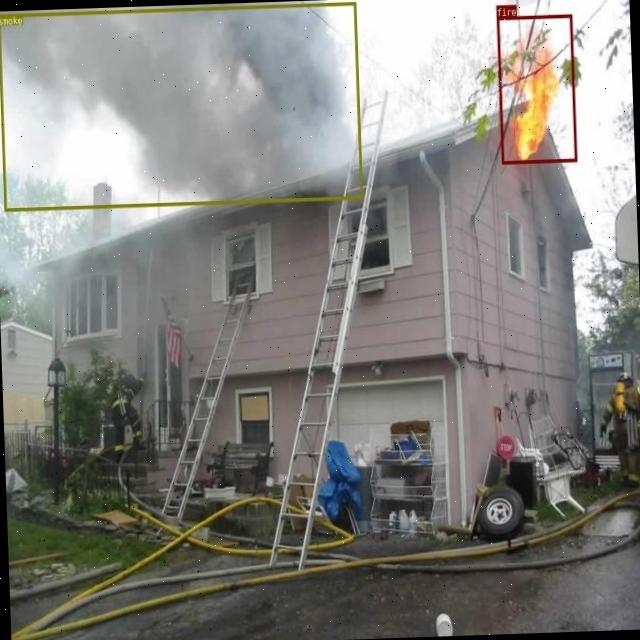fire: (496, 14, 576, 163)
smoke: (0, 2, 362, 210)
